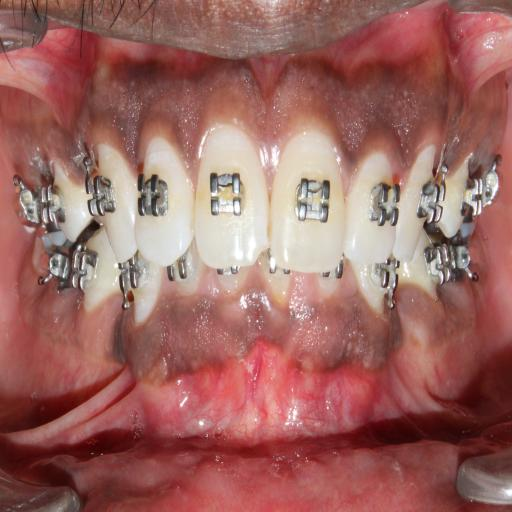correct_brace: (290, 170, 334, 228), (207, 164, 247, 226), (415, 171, 450, 227), (367, 182, 404, 232), (136, 176, 172, 220), (84, 170, 115, 218)
incorrect_brace: (134, 144, 194, 265), (346, 146, 400, 272)
